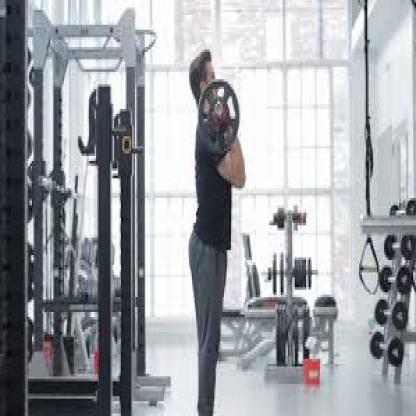Barbell: (194, 74, 245, 160)
